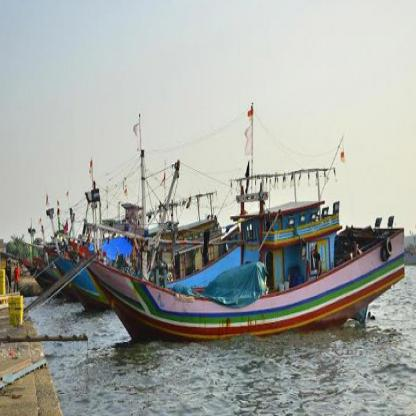fishing boat: (205, 218, 412, 350)
